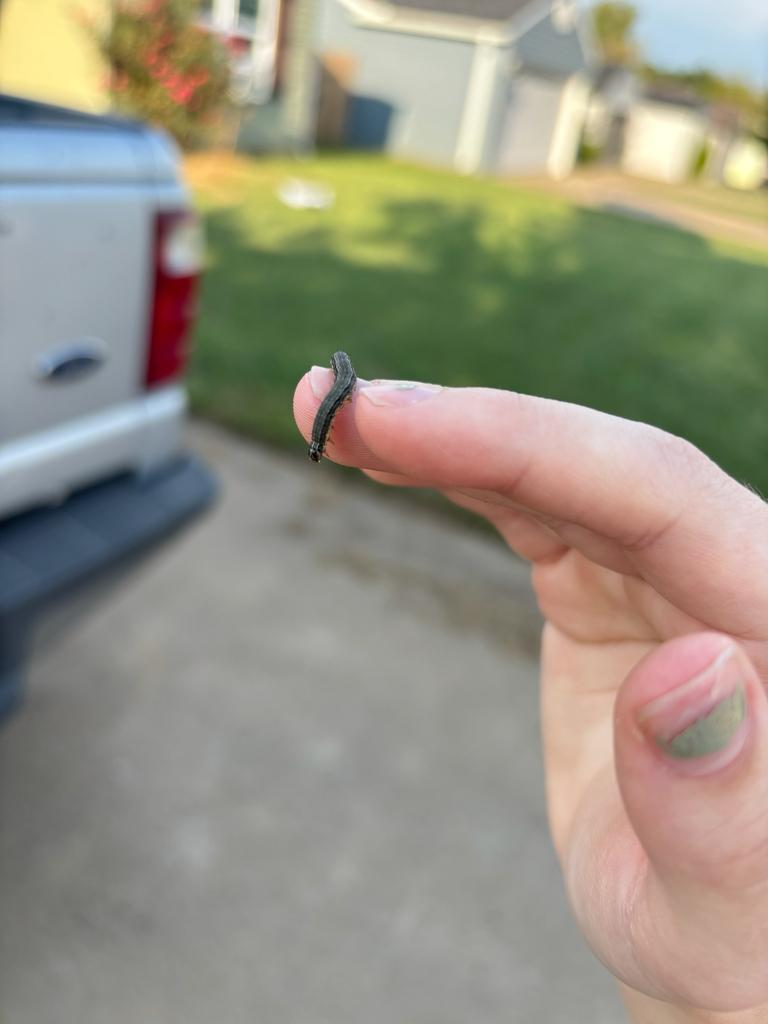caterpillars: (263, 323, 389, 487)
